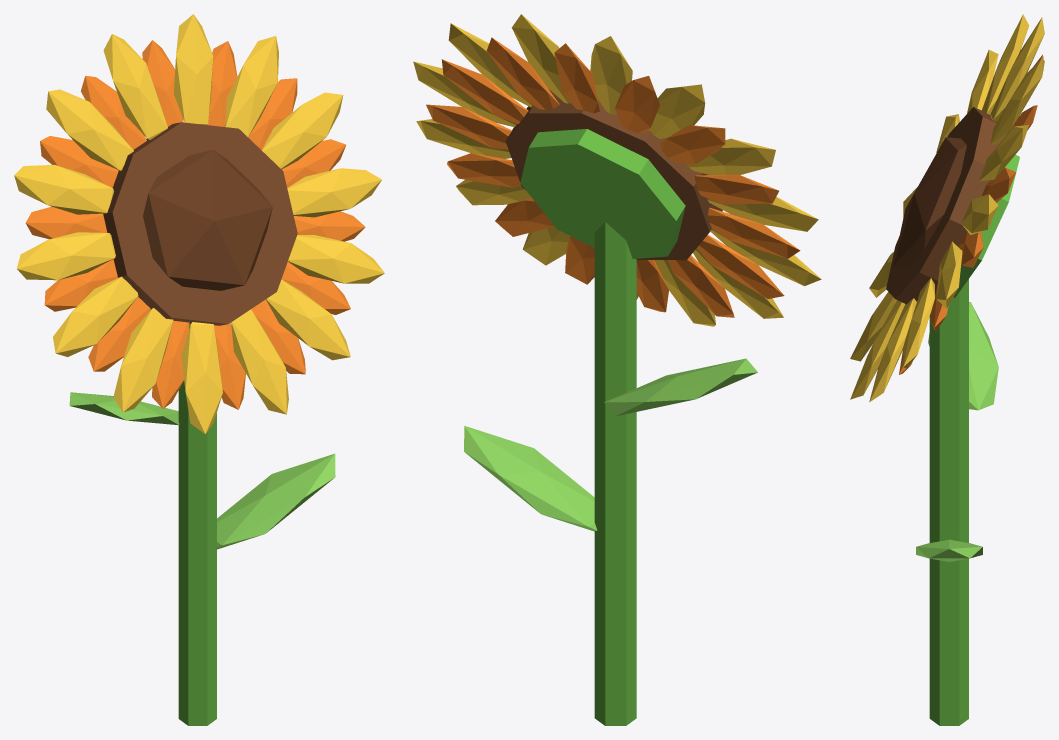
The model's file is Sunflower.fbx.
3 views of the same model, side by side, from view 1: azimuth 30°, elevation 25°; view 2: azimuth 150°, elevation 25°; view 3: azimuth 270°, elevation 25° (orthographic). The views are drawn at different scales.
Visible parts, largest first — view 1: Sunflower; view 2: Sunflower; view 3: Sunflower.
Boxes of the visible parts, x1=… form: Sunflower: x1=14, y1=14, x2=384, y2=725; Sunflower: x1=413, y1=14, x2=821, y2=725; Sunflower: x1=850, y1=14, x2=1044, y2=725.
Size of the model in its own units: 4.64 by 8.03 by 2.08.
1 material, 1 textured.
